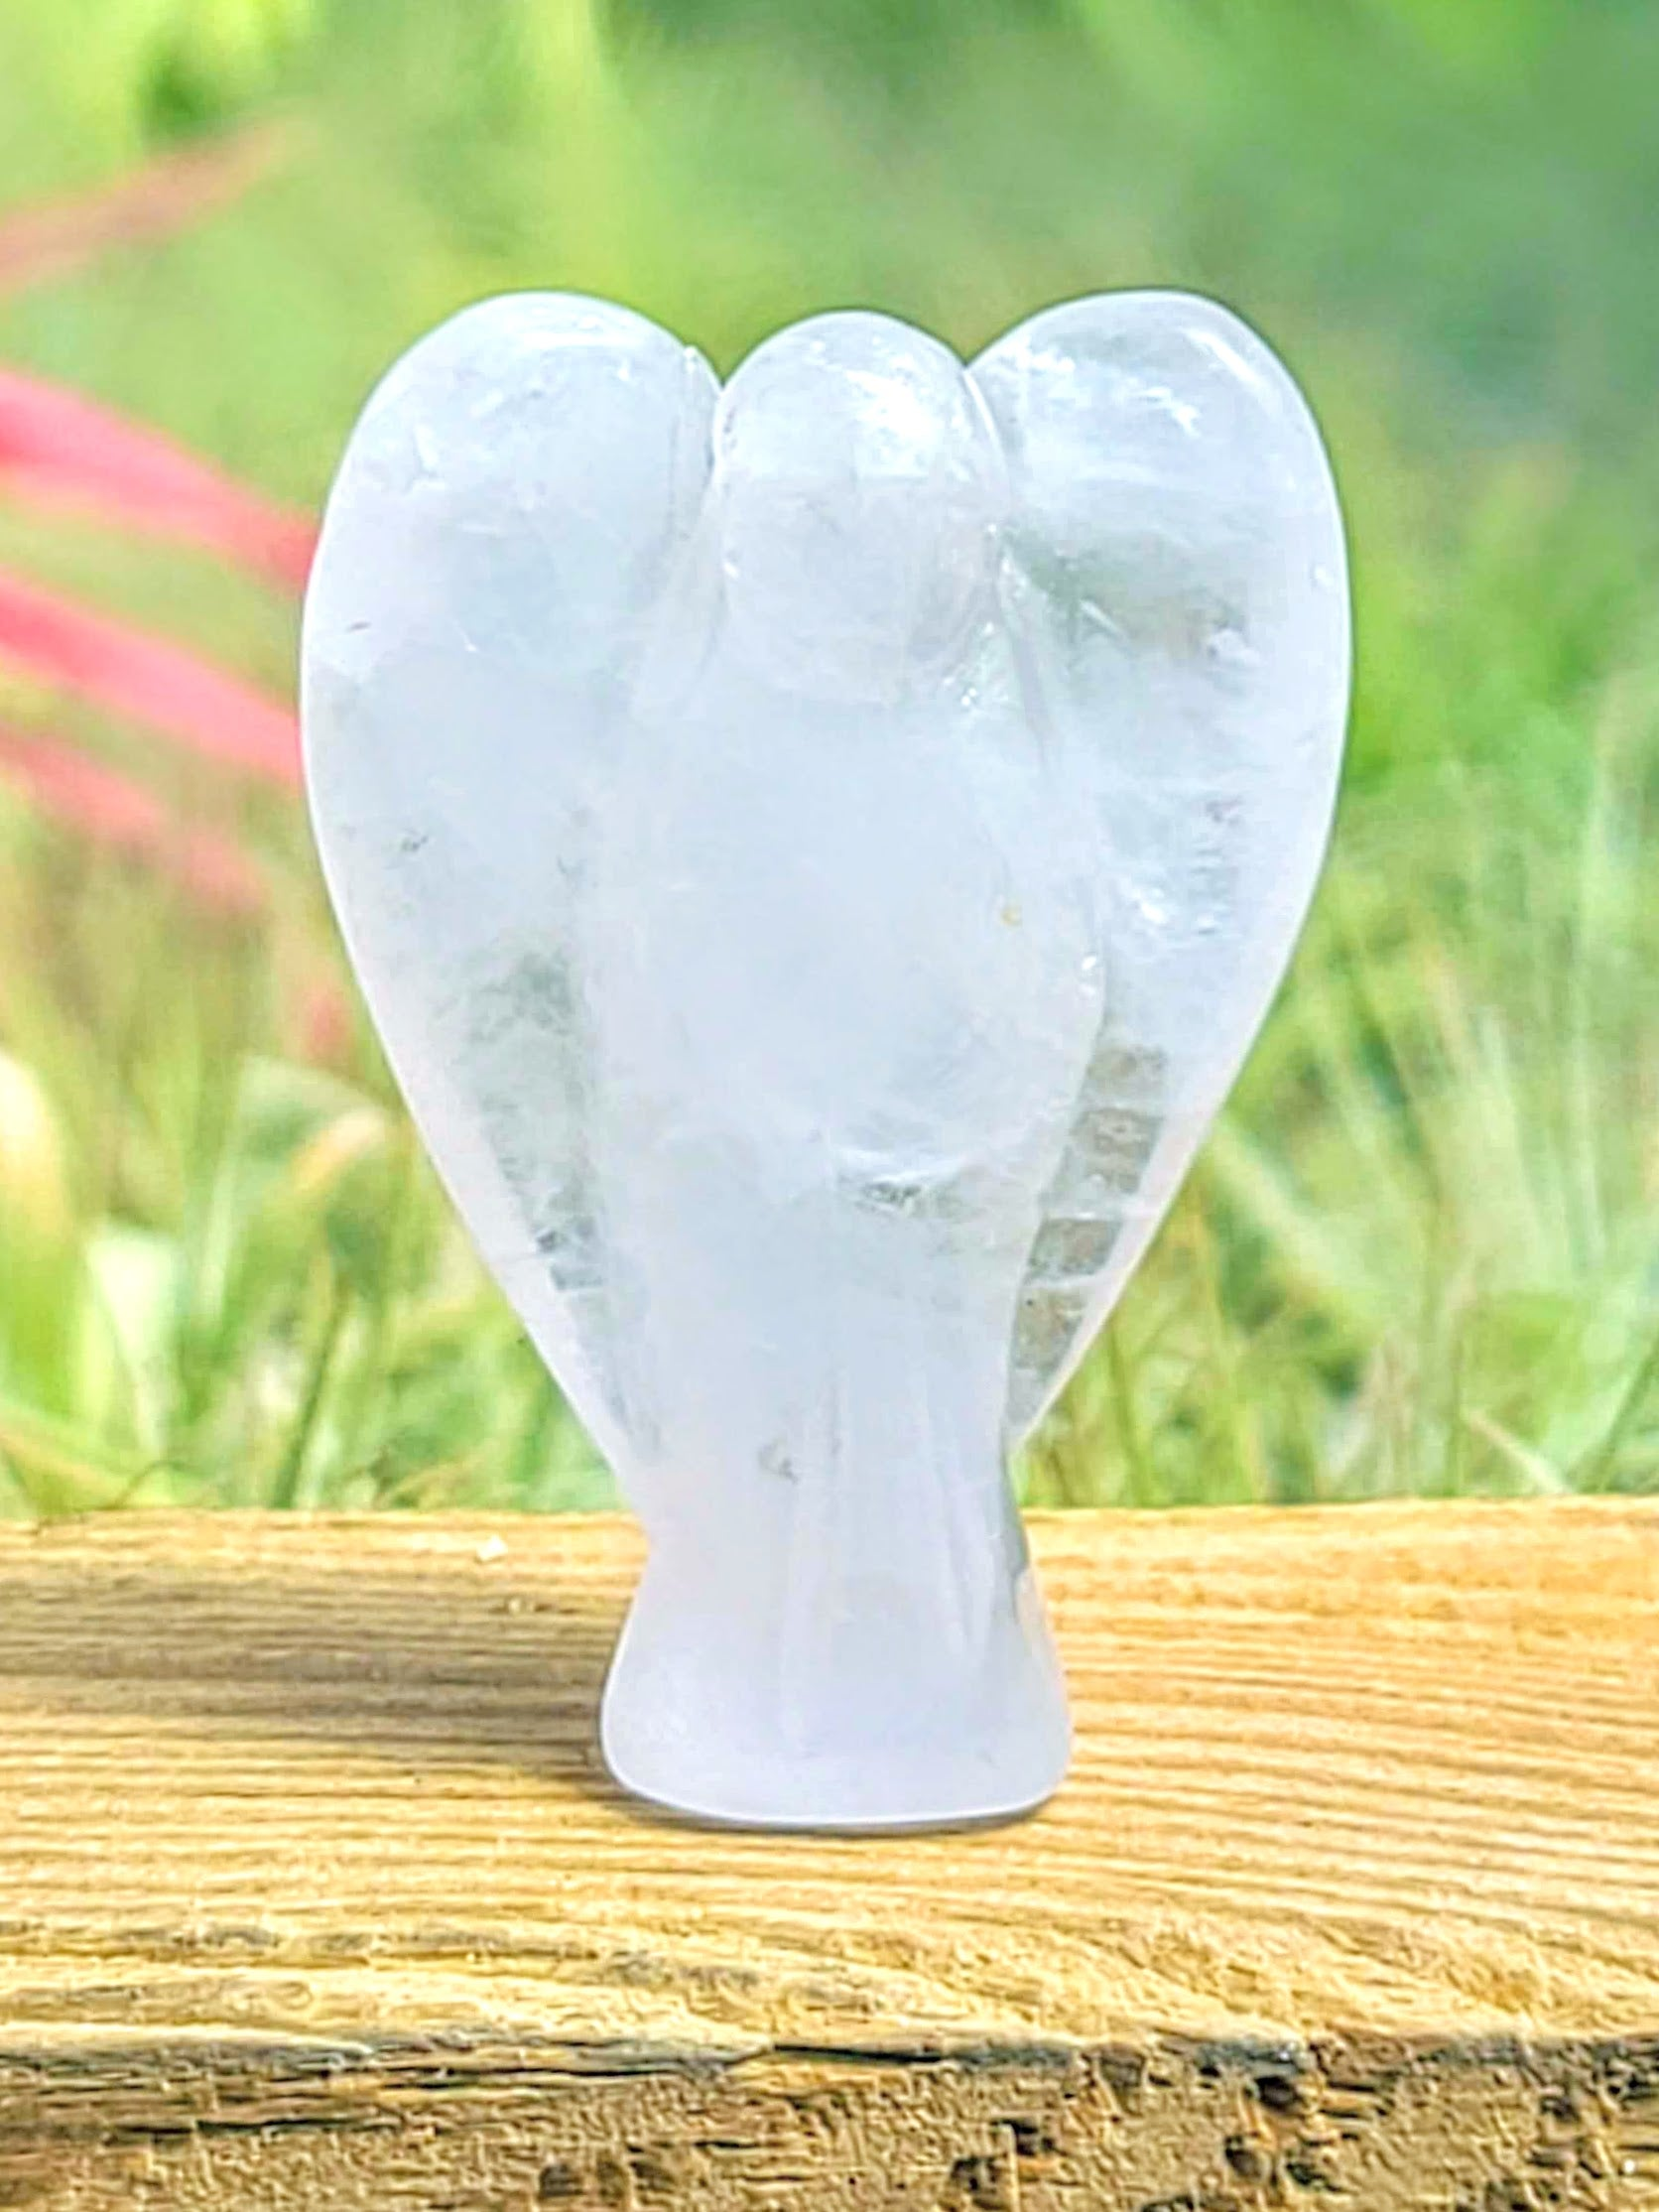Clear_Quartz: (286, 282, 1373, 1837)
